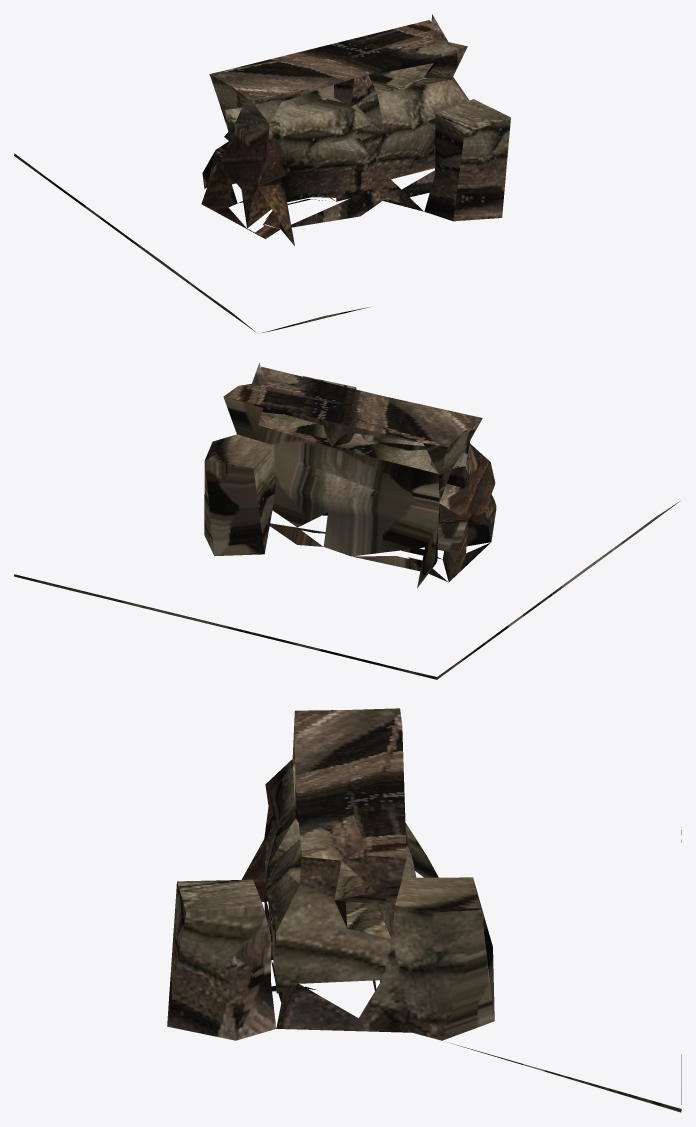
File: barrier.glb
3 views of the same model, one above another, from view 1: azimuth 30°, elevation 25°; view 2: azimuth 150°, elevation 25°; view 3: azimuth 270°, elevation 25° (orthographic). The views are drawn at different scales.
Bounding box in the file's own units: 1.99 × 0.7043 × 1.99.
Materials: 1 (1 with a texture image).
